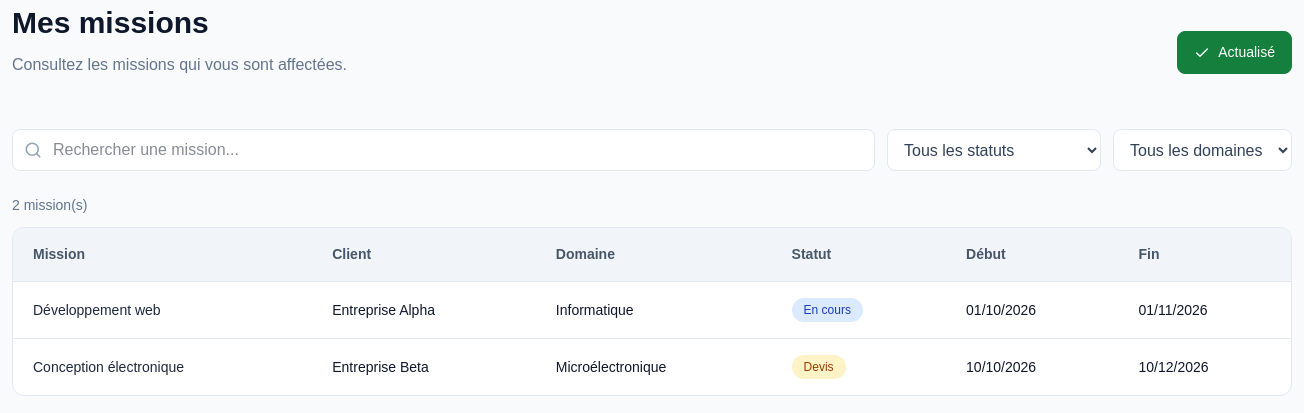
Test case: MyMissionsPage › filtre les missions par statut
expect the text "Développement web" is shown: met, box [13,282,312,338]
Select "En cours" in the dropdown named "Filtrer par statut": (994, 150) [887,129,1101,171]
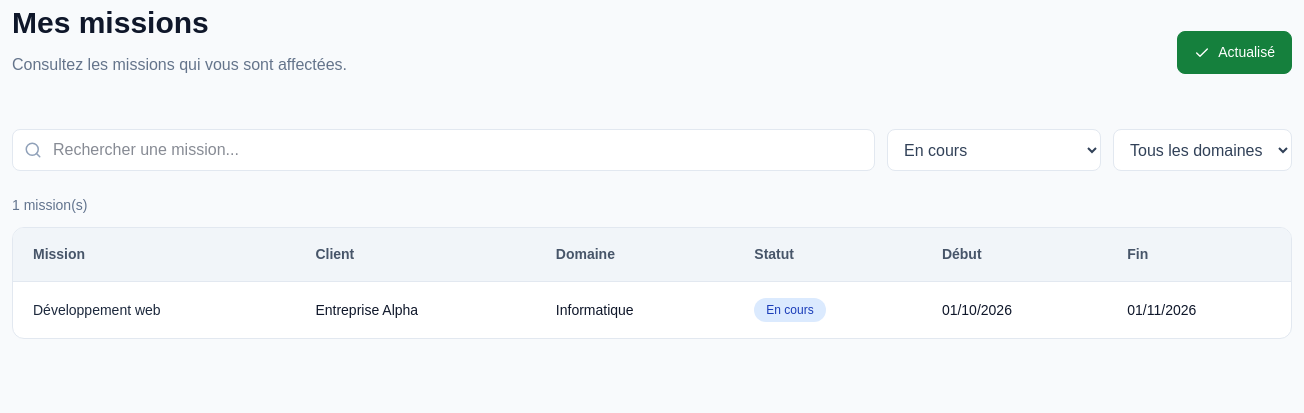
expect the text "Développement web" is shown: met, box [13,282,295,338]
expect the text "Conception électronique" is gone: met
